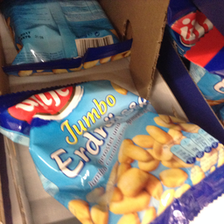nuts: (1, 80, 224, 222), (2, 1, 133, 78)
